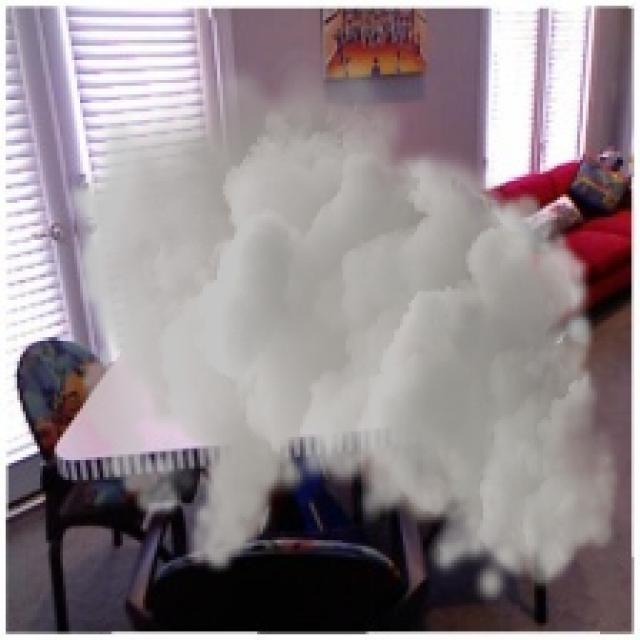smoke: (63, 46, 623, 608)
